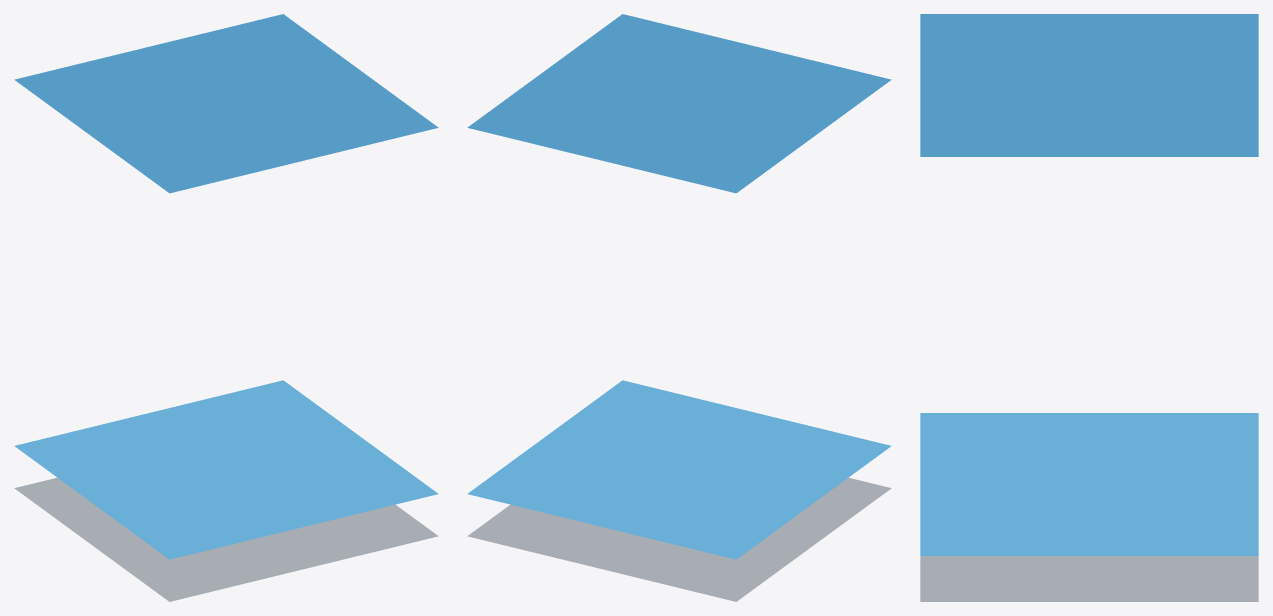
The model's file is piscina_miolo.glb.
3 views of the same model, side by side, from view 1: azimuth 30°, elevation 25°; view 2: azimuth 150°, elevation 25°; view 3: azimuth 270°, elevation 25° (orthographic). The views are drawn at different scales.
Visible parts, largest first — view 1: piscina_miolo; view 2: piscina_miolo; view 3: piscina_miolo.
Boxes of the visible parts, left/top/right/bottom form: piscina_miolo: left=14, top=14, right=438, bottom=601; piscina_miolo: left=467, top=14, right=891, bottom=601; piscina_miolo: left=920, top=14, right=1258, bottom=601.
Bounding box in the file's own units: 1 × 1.45 × 1.
3 materials, 1 textured.
